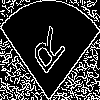R: (25, 24, 67, 84)
